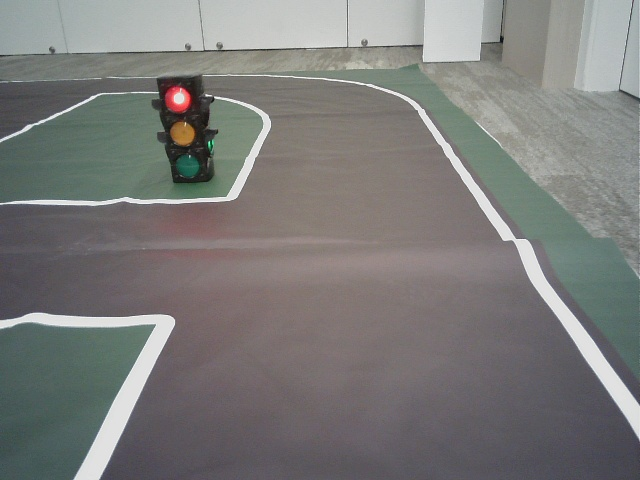red: (159, 82, 206, 179)
